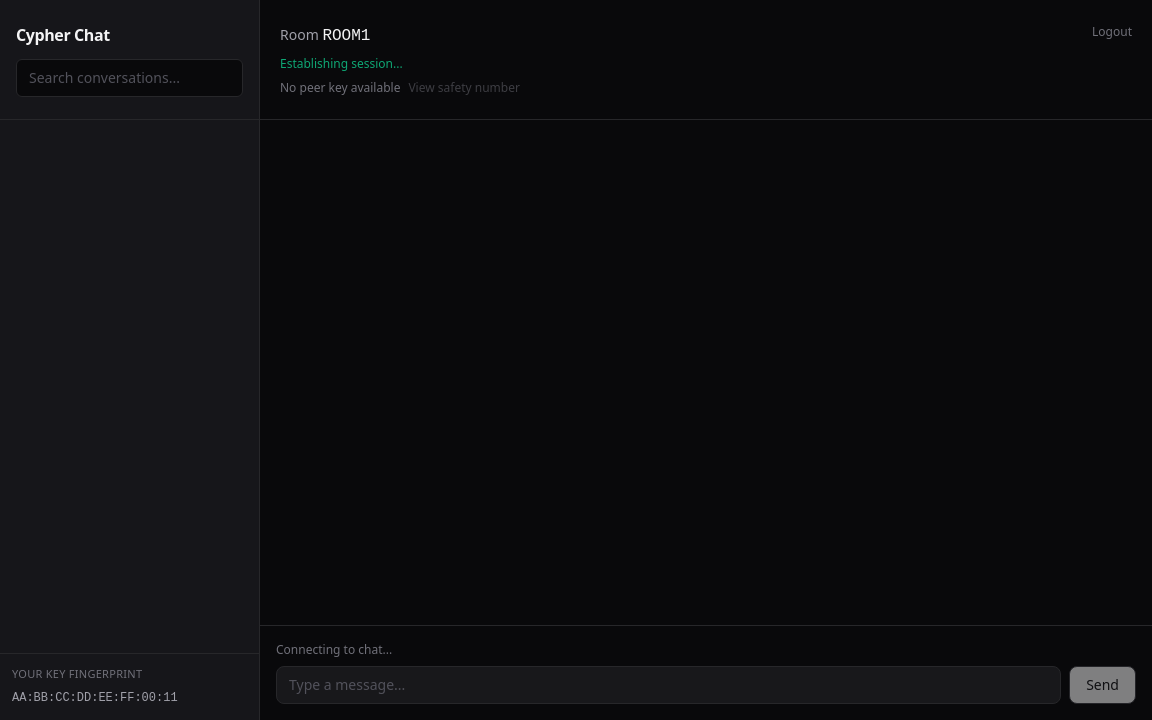
Test case: ChatRoom integration › queues a pending message before the socket opens without encrypting or alerting
This screenshot has width=1152, height=720.
Expected: the text "Connecting to chat..." is shown, [276,641,392,658]
Step 1. Type "queued early" into the field with placeholder "Type a message..." → (669, 685), box [276,666,1061,704]
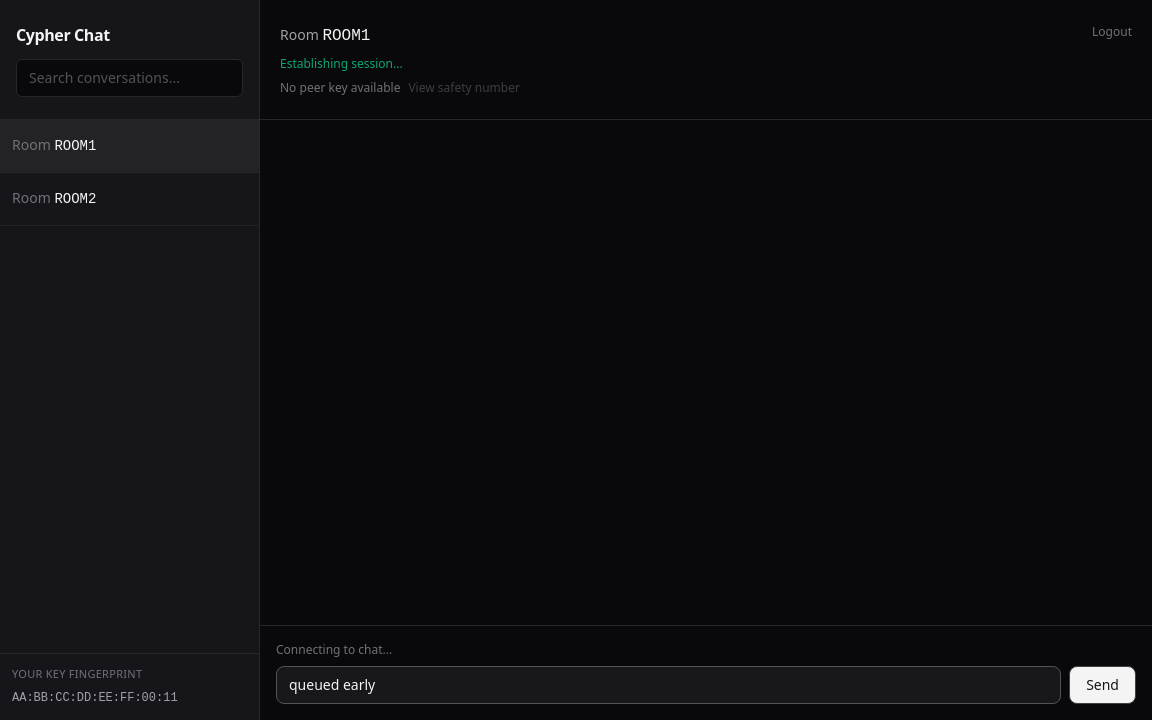
Step 2. Click the button "Send" → (1103, 685), box [1069,666,1136,704]
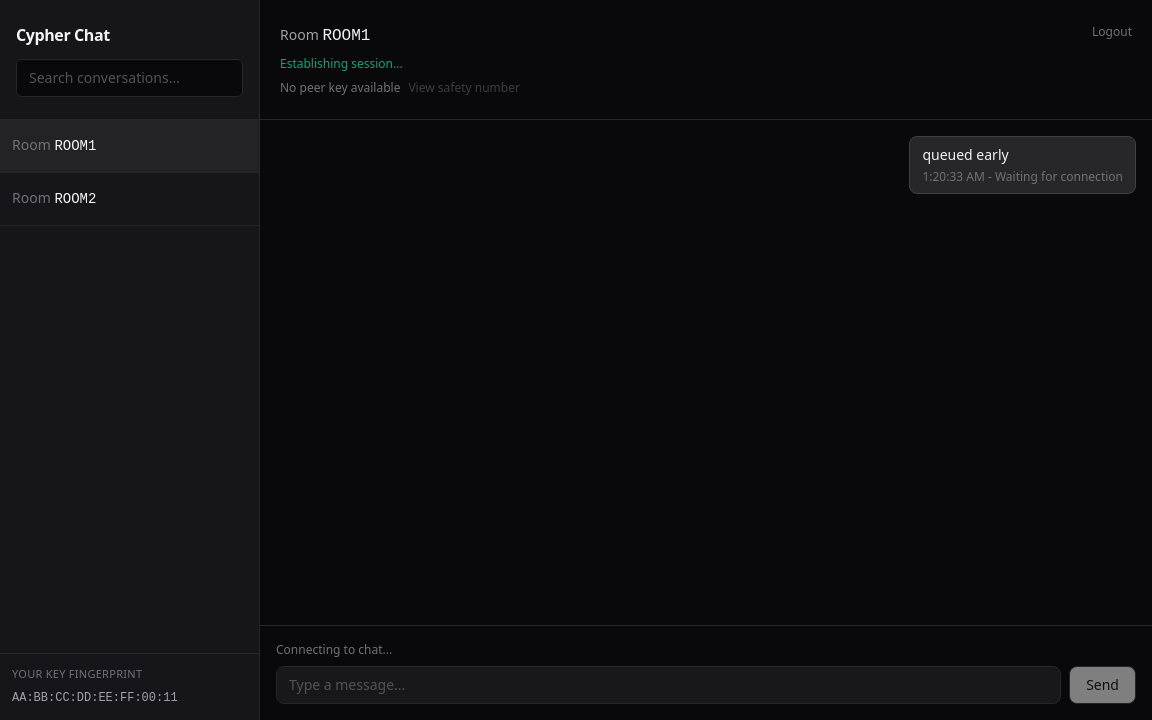
Expected: the text "queued early" is shown, [922,145,1009,164]
Expected: the text "1:20:33 AM - Waiting for connection" is shown, [922,169,1123,185]
